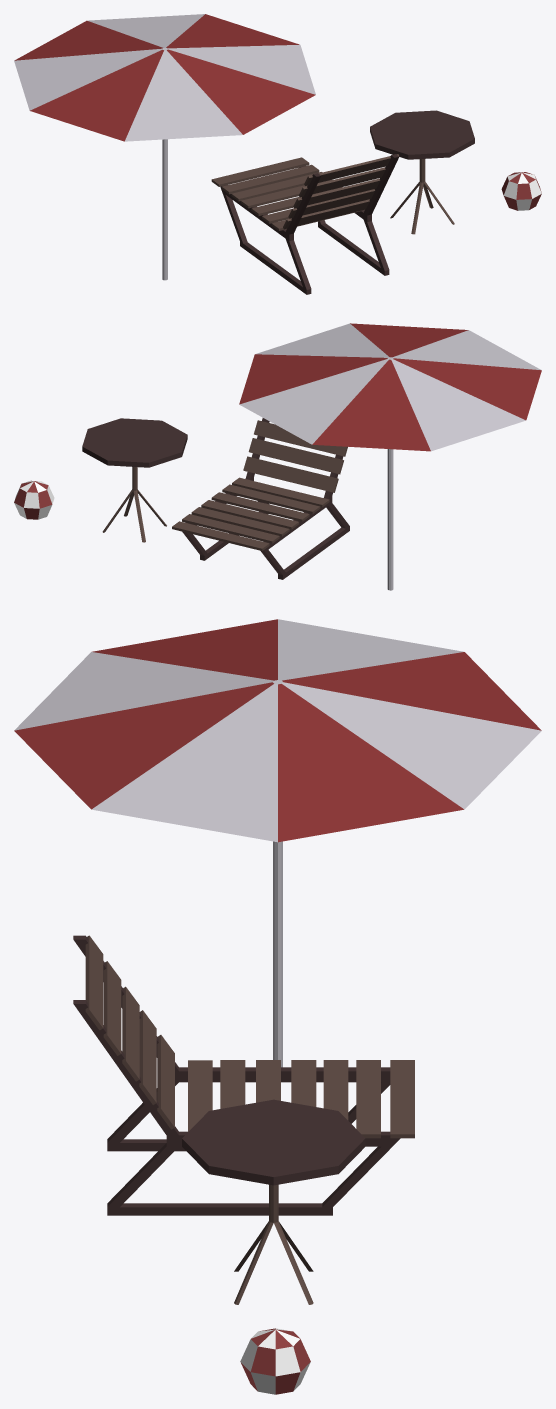
The model's file is CosasDelLago.fbx.
3 views of the same model, one above another, from view 1: azimuth 30°, elevation 25°; view 2: azimuth 150°, elevation 25°; view 3: azimuth 270°, elevation 25° (orthographic). The views are drawn at different scales.
Parts seen in each view (by area): view 1: Cylinder, Cube.001, Cylinder.001, Sphere; view 2: Cylinder, Cube.001, Cylinder.001, Sphere; view 3: Cylinder, Cube.001, Cylinder.001, Sphere.
Part boxes in pixels (left/top/right/bottom): Cylinder: left=14, top=14, right=315, bottom=280; Cube.001: left=211, top=154, right=399, bottom=294; Cylinder.001: left=370, top=110, right=474, bottom=234; Sphere: left=501, top=172, right=541, bottom=210; Cylinder: left=239, top=323, right=541, bottom=590; Cube.001: left=172, top=418, right=349, bottom=579; Cylinder.001: left=82, top=418, right=187, bottom=542; Sphere: left=14, top=480, right=54, bottom=519; Cylinder: left=14, top=619, right=541, bottom=1067; Cube.001: left=73, top=935, right=414, bottom=1215; Cylinder.001: left=182, top=1099, right=365, bottom=1304; Sphere: left=240, top=1328, right=310, bottom=1394.
Size of the model in its own units: 541 by 251 by 288.
